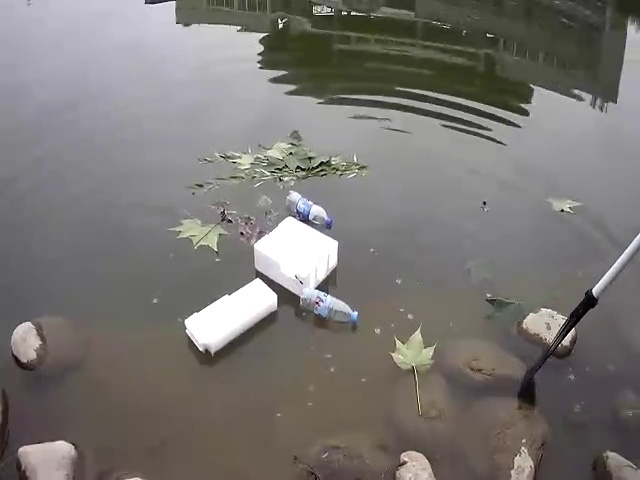bottle: (295, 286, 364, 324), (280, 182, 334, 229)
leaf: (191, 132, 371, 187), (172, 211, 225, 257), (388, 330, 439, 375), (540, 191, 584, 218)
paomo: (180, 277, 281, 357), (250, 215, 338, 289)
